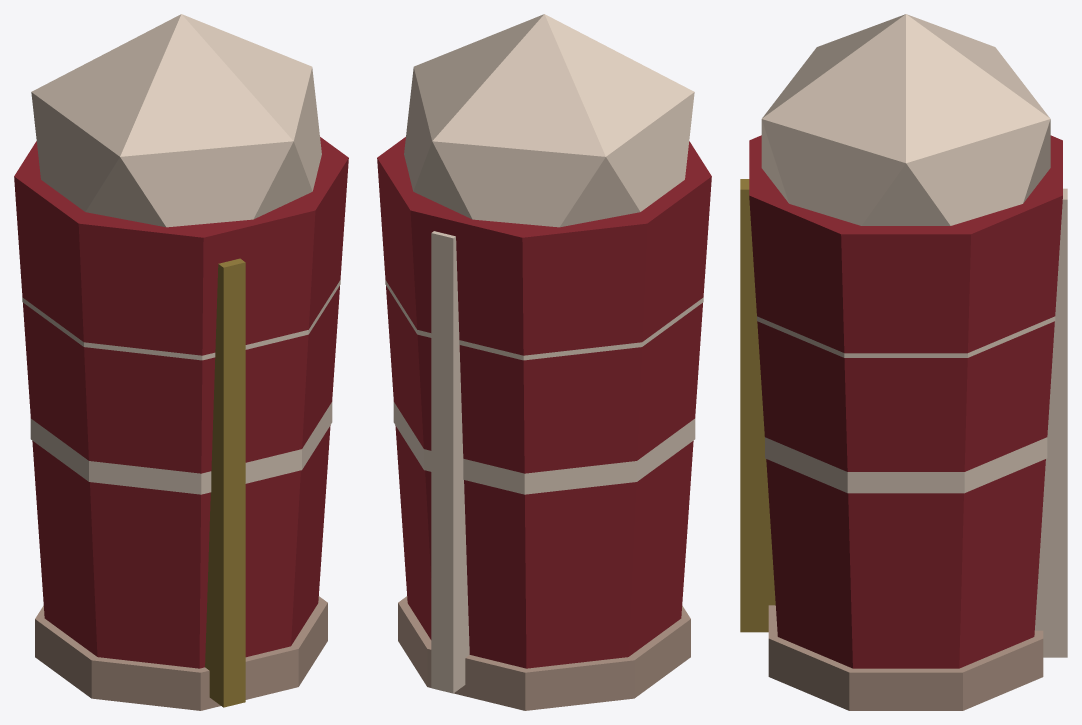
File: inf_runner_lower_arm.fbx
3 views of the same model, side by side, from view 1: azimuth 30°, elevation 25°; view 2: azimuth 150°, elevation 25°; view 3: azimuth 270°, elevation 25° (orthographic).
Parts seen in each view (by area): view 1: inf_runner_lower_arm; view 2: inf_runner_lower_arm; view 3: inf_runner_lower_arm.
Boxes of the visible parts, x1,y1,x2,y2 form: inf_runner_lower_arm: [14, 14, 348, 710]; inf_runner_lower_arm: [377, 14, 711, 710]; inf_runner_lower_arm: [740, 14, 1067, 710].
Bounding box in the file's own units: 73.91 × 167 × 77.
